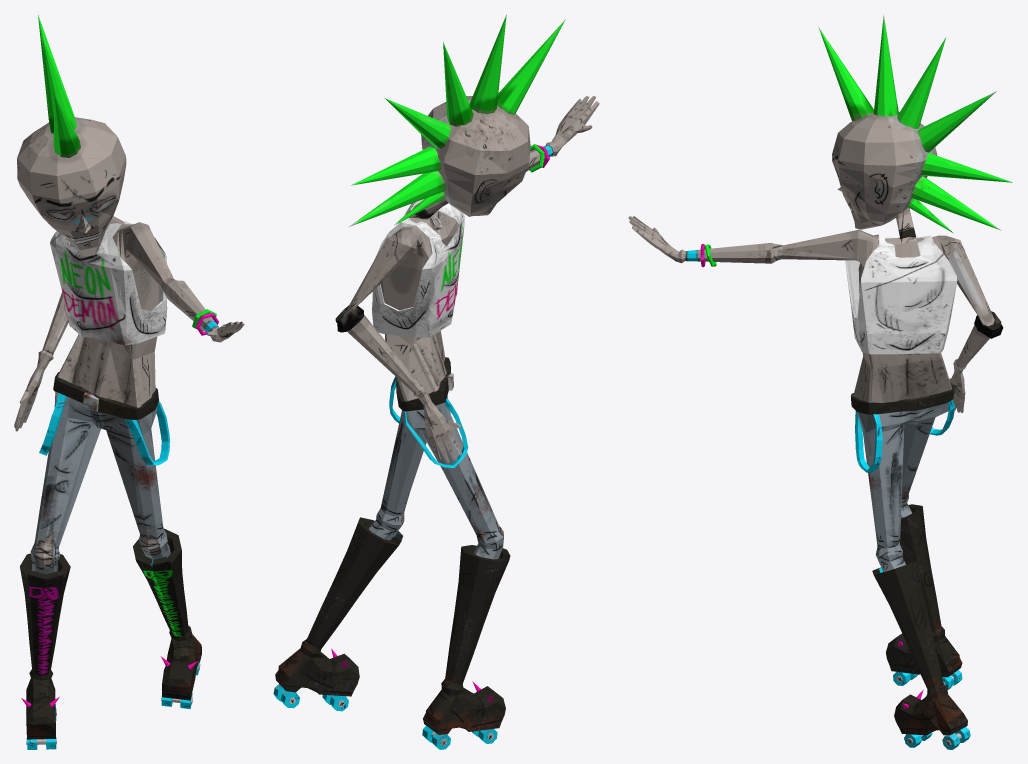
Rendered from punkAnimation_000019.obj.
The picture shows the model from 3 angles, left to right: view 1: azimuth 30°, elevation 25°; view 2: azimuth 150°, elevation 25°; view 3: azimuth 270°, elevation 25°; orthographic projection. The views are drawn at different scales.
Visible parts, largest first — view 1: Cube.004_Cube.003; view 2: Cube.004_Cube.003; view 3: Cube.004_Cube.003.
Boxes of the visible parts, box(x1,y1,x2,y2) form: Cube.004_Cube.003: box(14, 15, 244, 749); Cube.004_Cube.003: box(273, 15, 599, 749); Cube.004_Cube.003: box(628, 14, 1012, 749).
Bounding box in the file's own units: 2.34 × 7.34 × 3.87.
